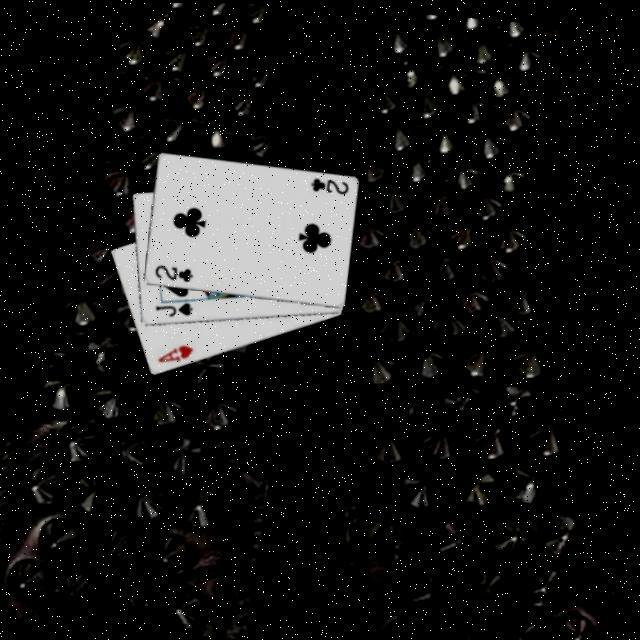2C: (152, 262, 196, 286), (308, 174, 352, 198)
AH: (156, 340, 198, 368)
JS: (152, 296, 195, 322)
